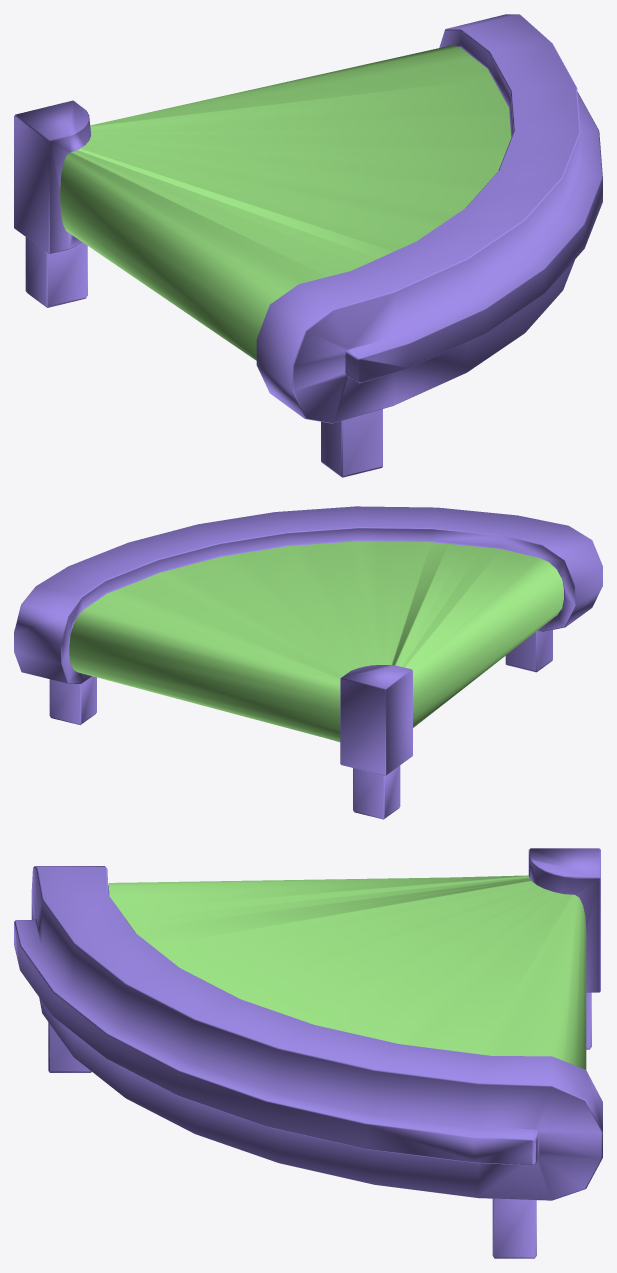
Rendered from tasmociagZakret.fbx.
3 renders of one model, top to bottom at view 1: azimuth 30°, elevation 25°; view 2: azimuth 150°, elevation 25°; view 3: azimuth 270°, elevation 25°, orthographic. The views are drawn at different scales.
Parts seen in each view (by area): view 1: Cube.004; view 2: Cube.004; view 3: Cube.004.
Boxes of the visible parts, x1,y1,x2,y2 form: Cube.004: (14, 14, 602, 477); Cube.004: (14, 506, 602, 819); Cube.004: (14, 848, 602, 1258).
Size of the model in its own units: 99.78 by 33.42 by 99.88.
